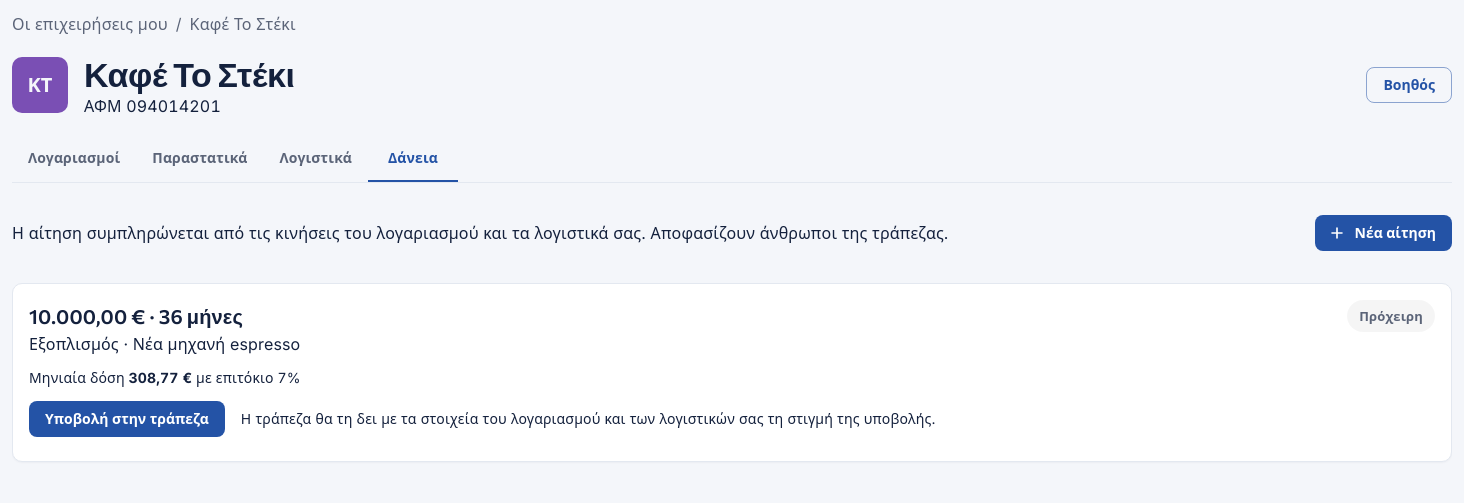
Test: LoansPage › submits a draft to the bank and shows it as submitted
Click the button "Υποβολή στην τράπεζα". click: (127, 419)
box: [29, 400, 225, 437]
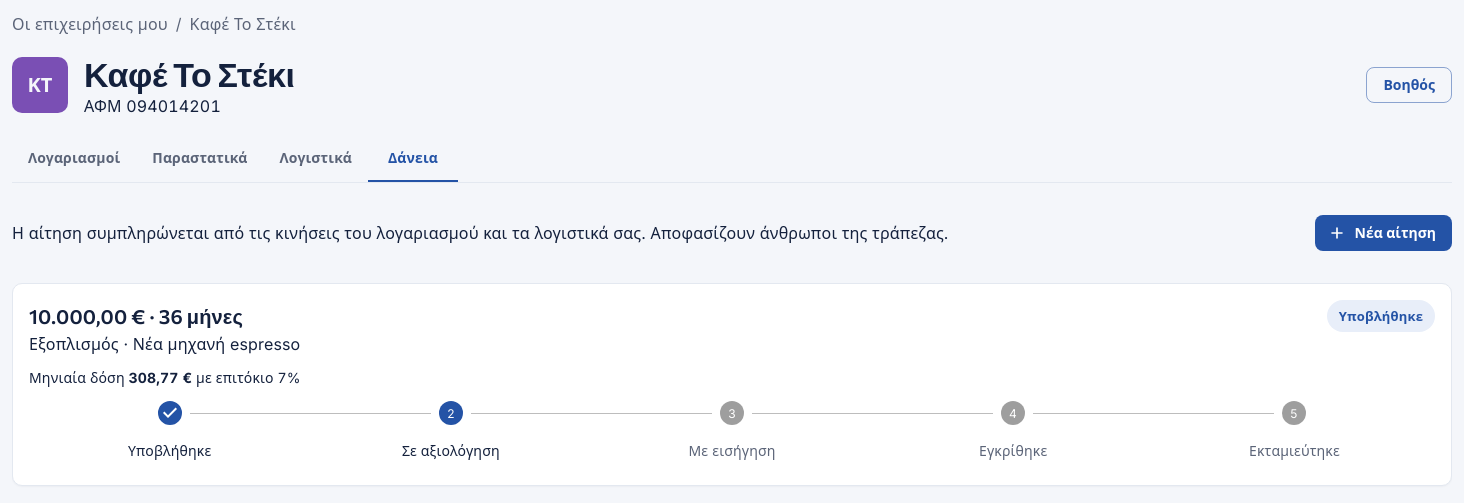
Expected: the button "Υποβολή στην τράπεζα" is gone
